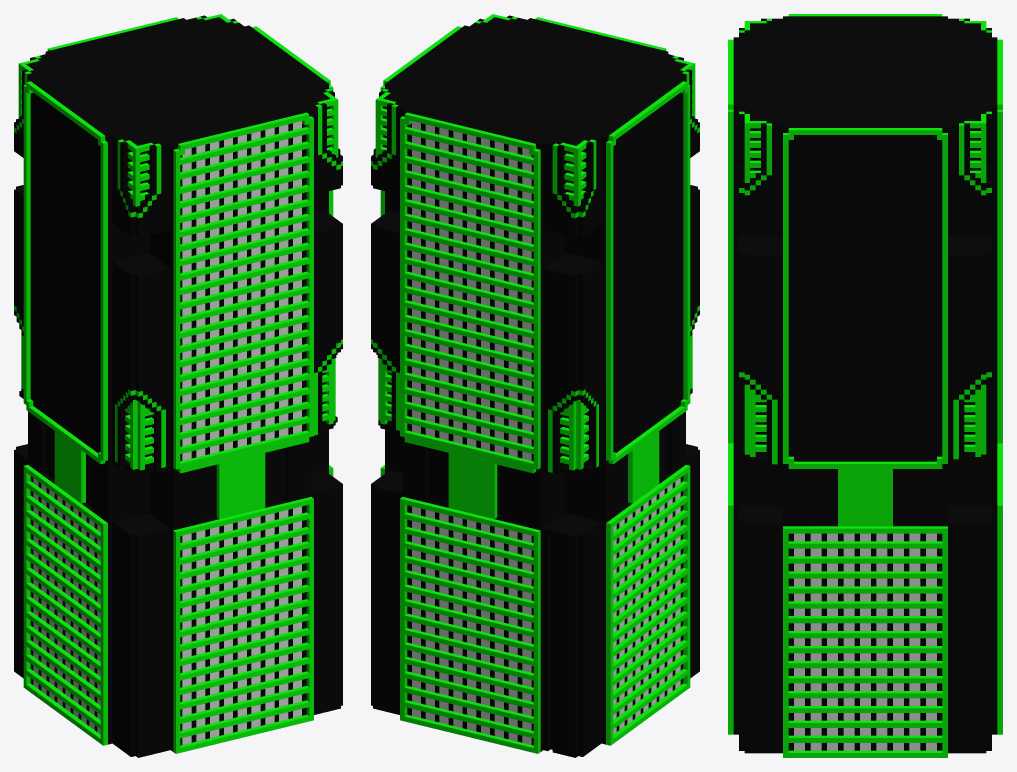
Rendered from TowerSC.obj.
3 views of the same model, side by side, from view 1: azimuth 30°, elevation 25°; view 2: azimuth 150°, elevation 25°; view 3: azimuth 270°, elevation 25° (orthographic). The views are drawn at different scales.
Bounding box in the file's own units: 5 × 12.6 × 5.
1 material, 1 textured.
